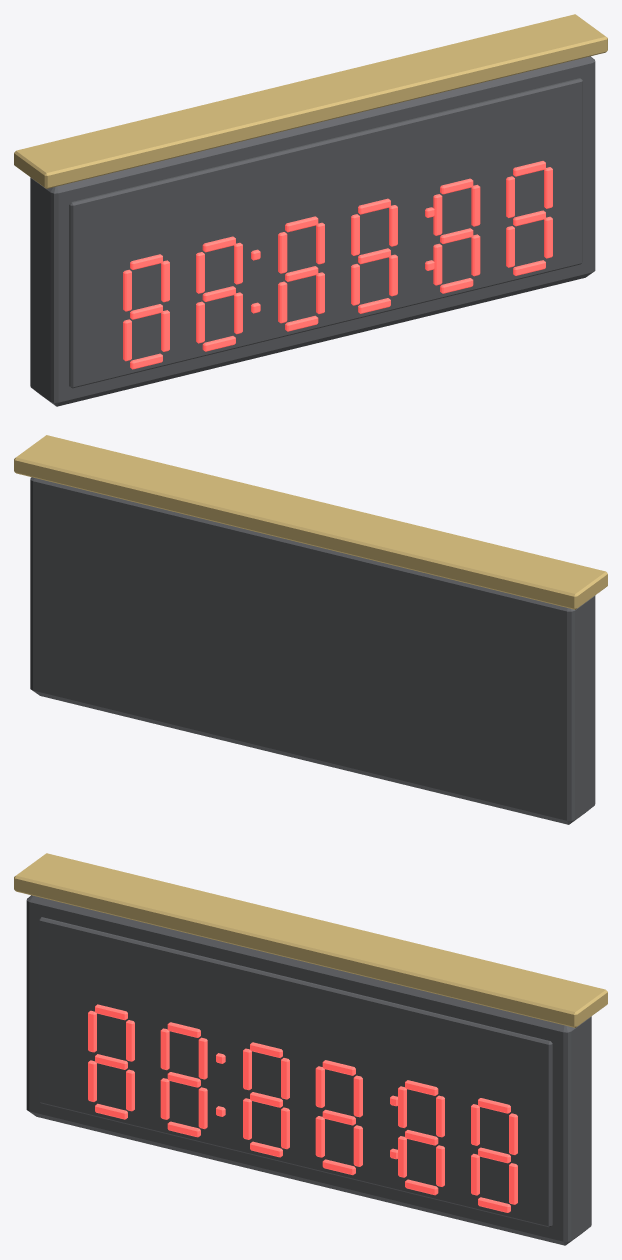
The model's file is escape-room-and-puzzle-venue-timer-display-panel-90b797f0__35780.glb.
The picture shows the model from 3 angles, top to bottom: view 1: azimuth 30°, elevation 25°; view 2: azimuth 150°, elevation 25°; view 3: azimuth 330°, elevation 25°; orthographic projection.
Parts seen in each view (by area): view 1: timer-display-panel; view 2: timer-display-panel; view 3: timer-display-panel.
Part boxes in pixels (box(x1,y1,x2,y2)): timer-display-panel: box(14, 14, 607, 406); timer-display-panel: box(14, 435, 607, 824); timer-display-panel: box(14, 853, 607, 1245).
Size of the model in its own units: 0.89 by 0.364 by 0.097.
